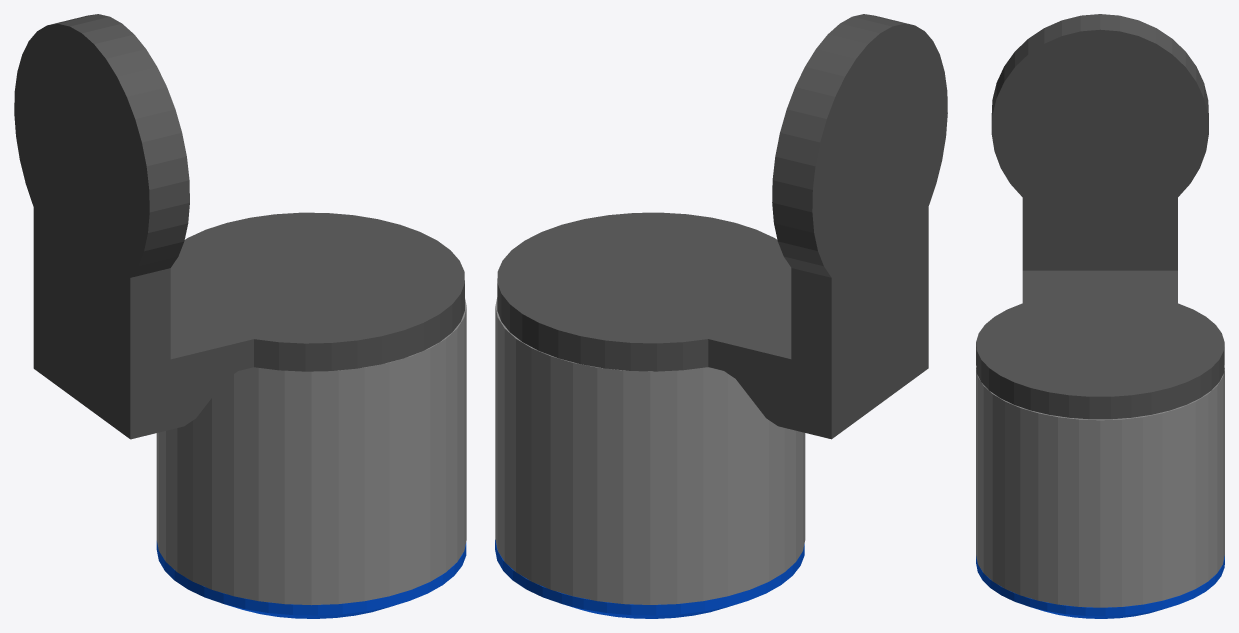
Rendered from arm_link_1.dae.
3 views of the same model, side by side, from view 1: azimuth 30°, elevation 25°; view 2: azimuth 150°, elevation 25°; view 3: azimuth 270°, elevation 25° (orthographic). The views are drawn at different scales.
Parts seen in each view (by area): view 1: 肩关节主体, 关节模块, 大关节盖; view 2: 肩关节主体, 关节模块, 大关节盖; view 3: 肩关节主体, 关节模块, 大关节盖.
Boxes of the visible parts, x1,y1,x2,y2 form: 肩关节主体: (14,14,464,439); 关节模块: (156,299,466,605); 大关节盖: (156,541,466,618); 肩关节主体: (497,14,947,439); 关节模块: (495,297,805,604); 大关节盖: (495,540,804,618); 肩关节主体: (976,14,1224,419); 关节模块: (976,366,1224,607); 大关节盖: (976,555,1224,618).
Bounding box in the file's own units: 0.1085 × 0.08 × 0.1681.
